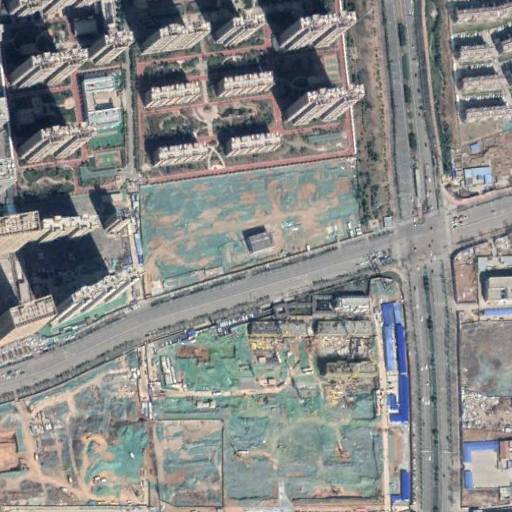cw: (4, 315, 412, 512), (136, 156, 356, 294), (462, 321, 512, 431)
